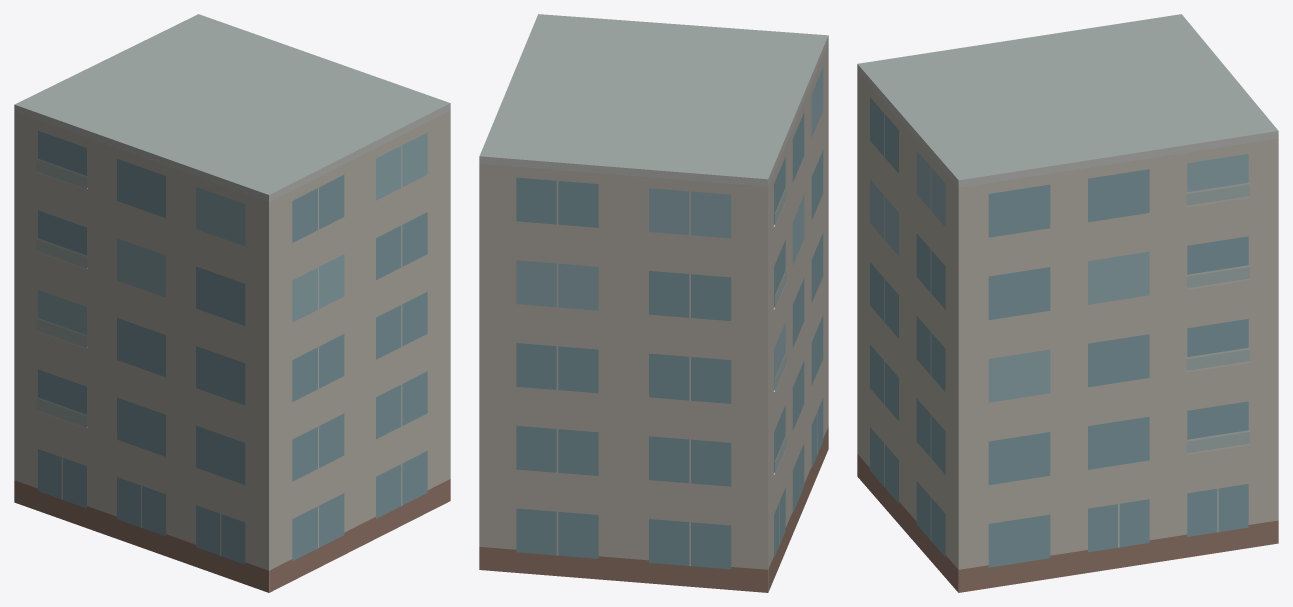
The model's file is survey-upis-32845875.glb.
The picture shows the model from 3 angles, left to right: view 1: azimuth 30°, elevation 25°; view 2: azimuth 150°, elevation 25°; view 3: azimuth 270°, elevation 25°; orthographic projection. The views are drawn at different scales.
Visible parts, largest first — view 1: survey-upis-32845875.tmp; view 2: survey-upis-32845875.tmp; view 3: survey-upis-32845875.tmp.
Boxes of the visible parts, box(x1,y1,x2,y2) form: survey-upis-32845875.tmp: box(14, 14, 450, 592); survey-upis-32845875.tmp: box(479, 14, 828, 592); survey-upis-32845875.tmp: box(857, 14, 1278, 592).
Size of the model in its own units: 11.68 by 13.5 by 12.51.
